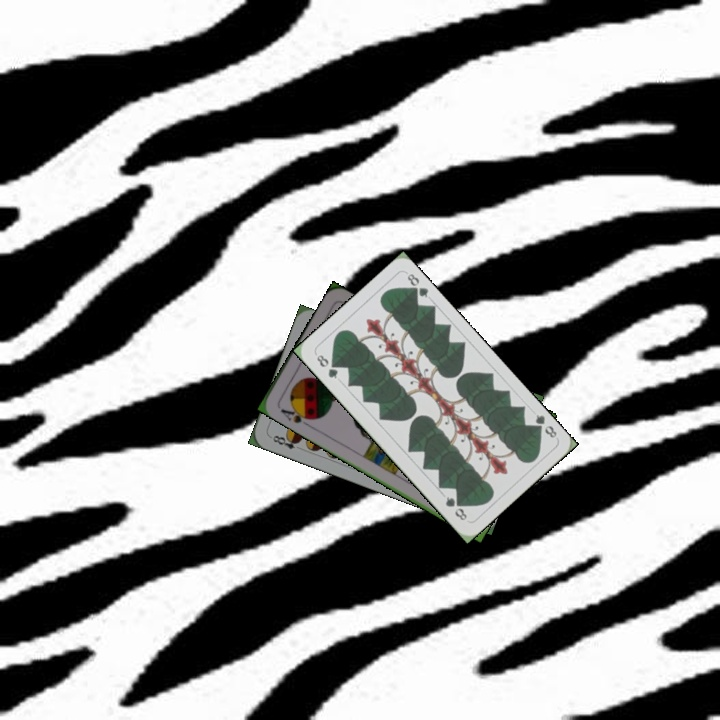E8: (266, 431, 305, 453)
G8: (528, 410, 559, 441), (312, 350, 341, 382)
SA: (277, 402, 315, 429)
